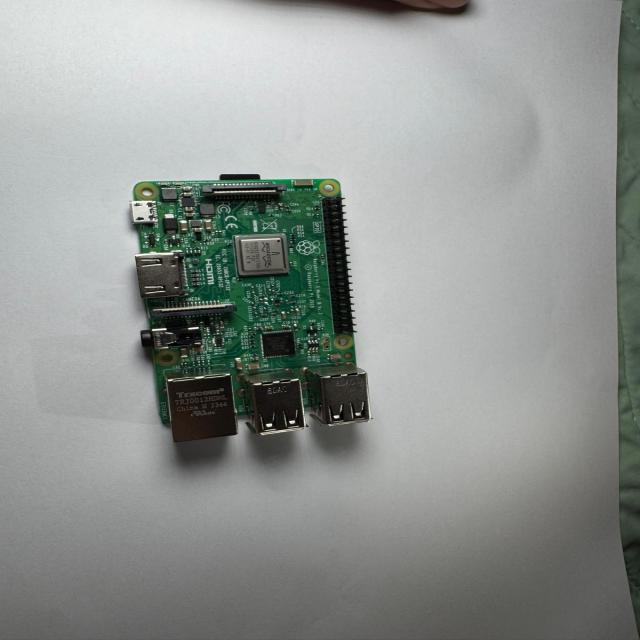CPU: (233, 234, 289, 280)
Ethernet: (167, 378, 239, 444)
GPIO: (321, 196, 355, 343)
HDMI: (135, 248, 191, 308)
RAM-3: (261, 330, 297, 364)
Raspberry: (128, 174, 371, 446)
